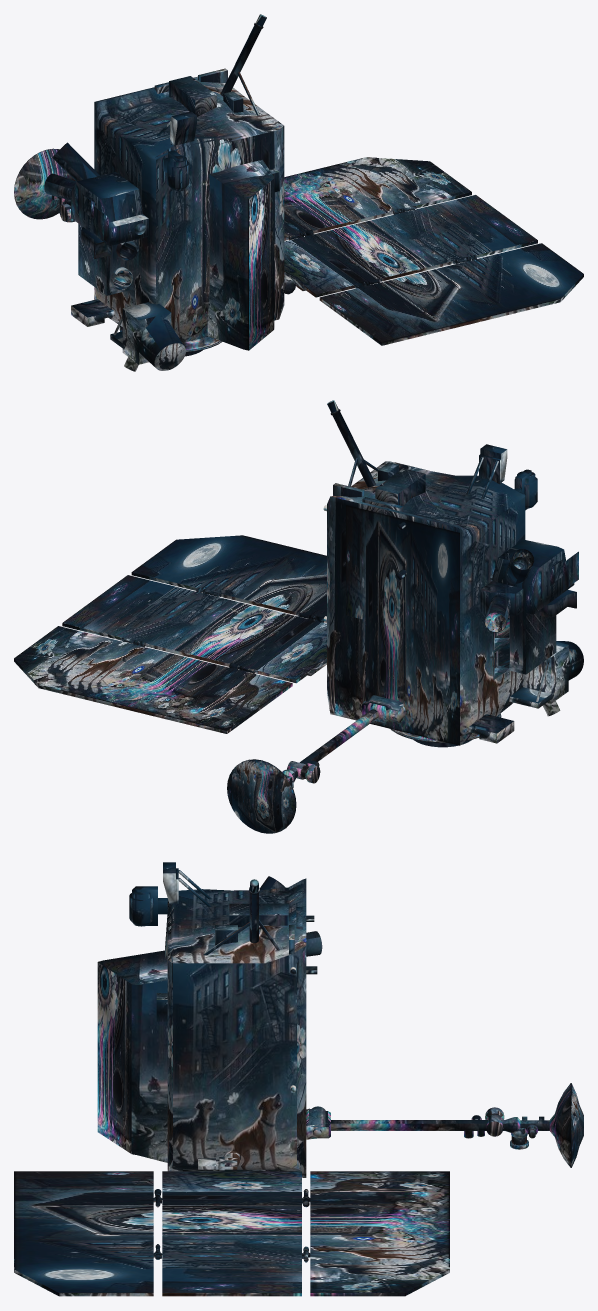
File: lunar-reconnaissance-orbiter-b.glb
The picture shows the model from 3 angles, top to bottom: view 1: azimuth 30°, elevation 25°; view 2: azimuth 150°, elevation 25°; view 3: azimuth 270°, elevation 25°; orthographic projection. The views are drawn at different scales.
Visible parts, largest first — view 1: A; view 2: A; view 3: A.
Part boxes in pixels (left/top/right/bottom): A: left=14, top=14, right=583, bottom=371; A: left=14, top=400, right=583, bottom=833; A: left=14, top=862, right=583, bottom=1296.
Size of the model in its own units: 1.98 by 1.33 by 2.
9 materials, 9 textured.
